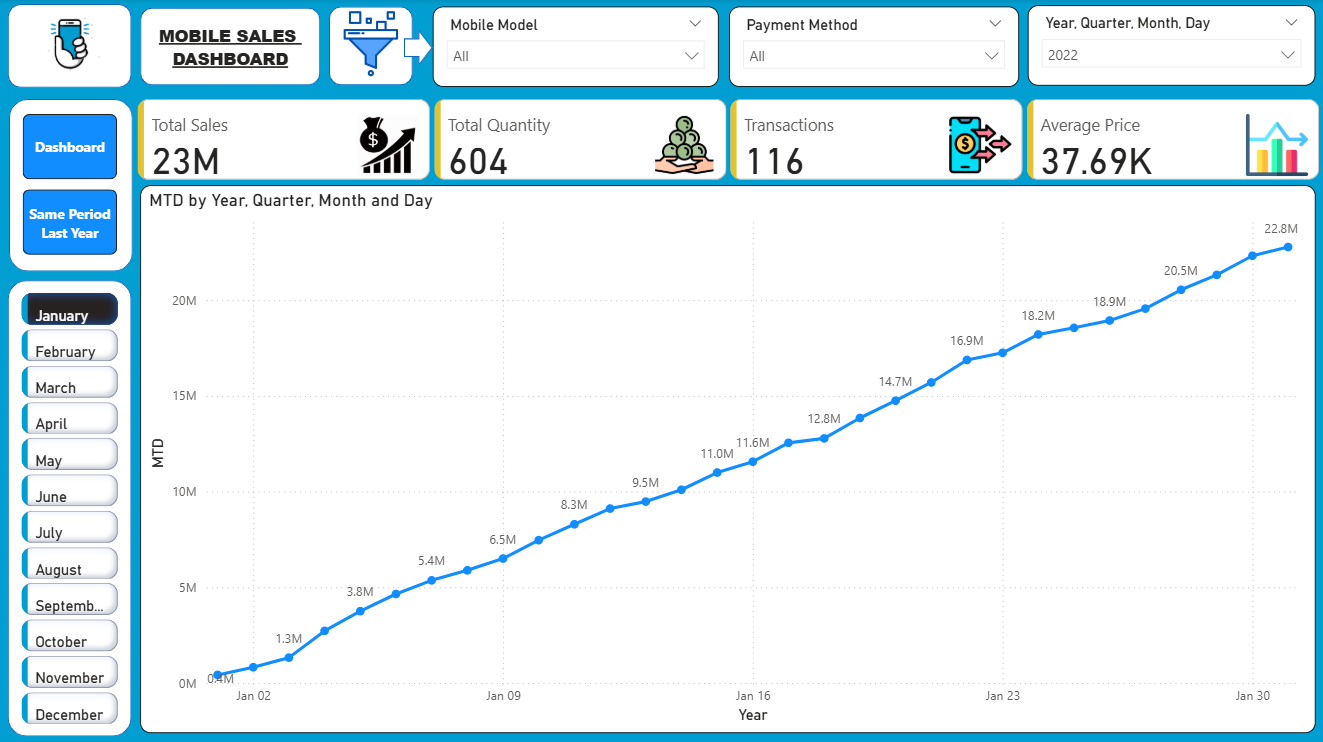

Layout of this report page (visuals, bound fields, positions):
{"tool":"powerbi","page":{"name":"MTD Report","canvas":[1280,720],"ordinal":1},"visuals":[{"type":"shape","box":[8.4,4.8,119.4,80.8],"z":0},{"type":"image","box":[8.4,7.2,119.4,76],"z":1000},{"type":"shape","box":[9.7,96.5,119.4,166.5],"z":2000},{"type":"cardVisual","fields":{"Data":["Mobile Sales Data.Total Sales","Mobile Sales Data.Total Quantity","Mobile Sales Data.Transactions","Mobile Sales Data.Average Price"]},"box":[129.1,91.7,1150.9,88.1],"z":3000},{"type":"slicer","fields":{"Values":["Mobile Sales Data.Mobile Model"]},"box":[418.6,7.2,276.3,77.2],"z":4000},{"type":"slicer","fields":{"Values":["Mobile Sales Data.Payment Method"]},"box":[704.6,7.2,279.9,77.2],"z":5000},{"type":"slicer","fields":{"Values":["Custom Calendar.Date.Variation.Date Hierarchy.Year","Custom Calendar.Date.Variation.Date Hierarchy.Quarter","Custom Calendar.Date.Variation.Date Hierarchy.Month","Custom Calendar.Date.Variation.Date Hierarchy.Day"]},"box":[992.9,6,277.5,77.2],"z":6000},{"type":"shape","box":[318.5,7.2,80.8,76],"z":7000},{"type":"image","box":[318.5,6,80.8,74.8],"z":8000},{"type":"shape","box":[390.9,29,27.7,36.2],"z":9000},{"type":"shape","box":[136.3,8.4,173.7,74.8],"z":10000},{"type":"textbox","box":[136.3,19.3,173.7,56.7],"z":11000},{"type":"lineChart","fields":{"Y":["Mobile Sales Data.MTD"],"Category":["Custom Calendar.Date.Variation.Date Hierarchy.Year","Custom Calendar.Date.Variation.Date Hierarchy.Quarter","Custom Calendar.Date.Variation.Date Hierarchy.Month","Custom Calendar.Date.Variation.Date Hierarchy.Day"]},"box":[136.3,179.8,1134.1,528.4],"z":13000},{"type":"shape","box":[8.4,271.4,119.4,440.4],"z":14000},{"type":"advancedSlicerVisual","fields":{"Values":["Custom Calendar.Date.Variation.Date Hierarchy.Month"]},"box":[16.9,278.7,103.8,427.1],"z":15000},{"type":"pageNavigator","box":[22.9,111,91.7,137.5],"z":15001}]}

Visuals, with their boxes in screenshot pixels (x1, y1, x2, y2), scaled from the page's 1280x720 canvas onto the 1323x742 screenshot:
shape: bbox(9, 5, 132, 88)
image: bbox(9, 7, 132, 86)
shape: bbox(10, 99, 133, 271)
cardVisual - Mobile Sales Data.Total Sales x Mobile Sales Data.Total Quantity: bbox(133, 95, 1322, 185)
slicer - Mobile Sales Data.Mobile Model: bbox(433, 7, 718, 87)
slicer - Mobile Sales Data.Payment Method: bbox(728, 7, 1018, 87)
slicer - Custom Calendar.Date.Variation.Date Hierarchy.Year x Custom Calendar.Date.Variation.Date Hierarchy.Quarter: bbox(1026, 6, 1313, 86)
shape: bbox(329, 7, 413, 86)
image: bbox(329, 6, 413, 83)
shape: bbox(404, 30, 433, 67)
shape: bbox(141, 9, 320, 86)
textbox: bbox(141, 20, 320, 78)
lineChart - Mobile Sales Data.MTD x Custom Calendar.Date.Variation.Date Hierarchy.Year: bbox(141, 185, 1313, 730)
shape: bbox(9, 280, 132, 734)
advancedSlicerVisual - Custom Calendar.Date.Variation.Date Hierarchy.Month: bbox(17, 287, 125, 727)
pageNavigator: bbox(24, 114, 118, 256)
